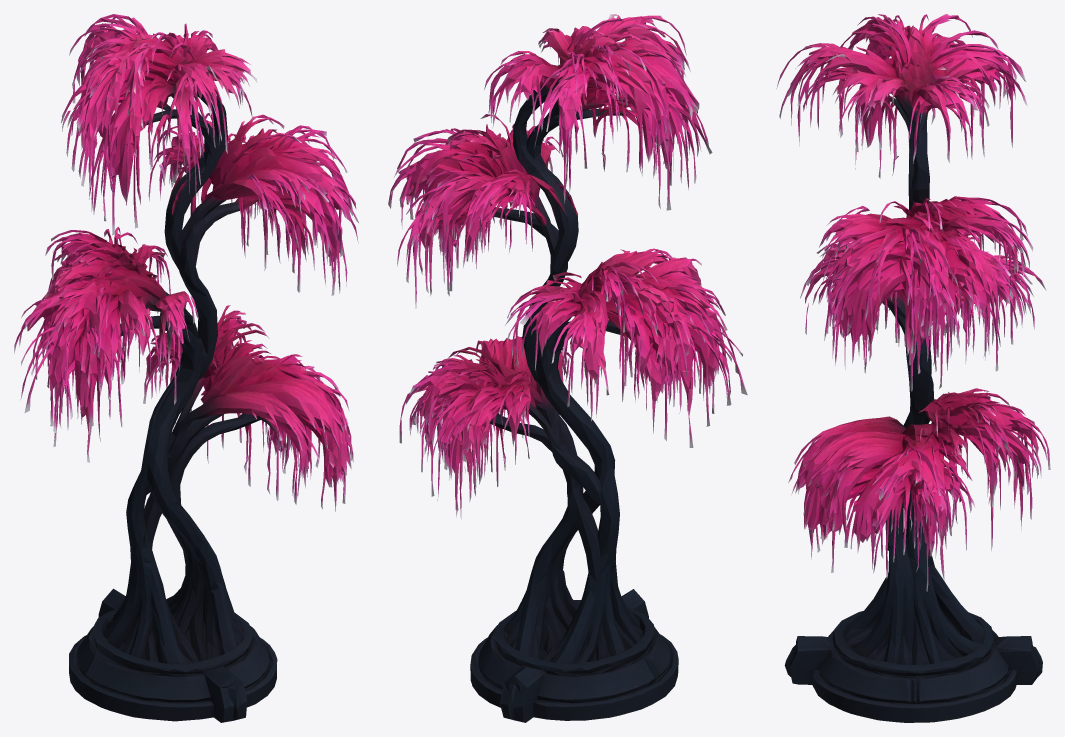
3 views of the same model, side by side, from view 1: azimuth 30°, elevation 25°; view 2: azimuth 150°, elevation 25°; view 3: azimuth 270°, elevation 25° (orthographic).
Visible parts, largest first — view 1: model; view 2: model; view 3: model.
Boxes of the visible parts, x1=… form: model: x1=14, y1=14, x2=358, y2=722; model: x1=388, y1=14, x2=747, y2=722; model: x1=776, y1=14, x2=1050, y2=722.
Bounding box in the file's own units: 1.01 × 1.9 × 0.7274.
1 material, 1 textured.
